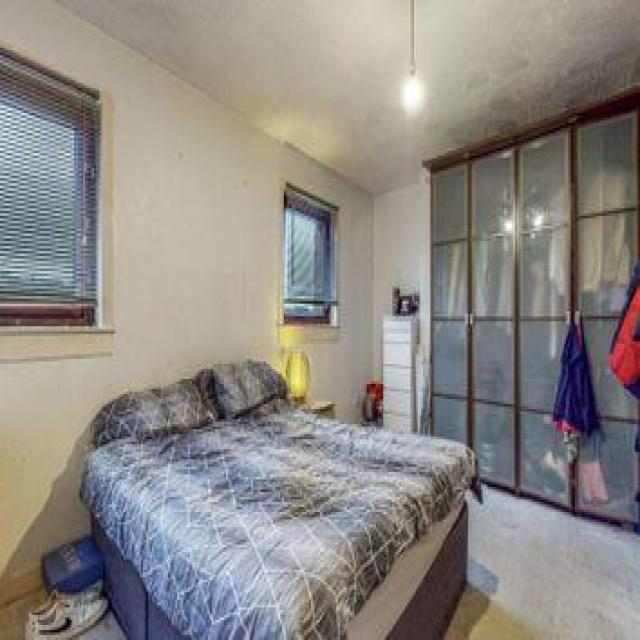Wall: (0, 0, 374, 601), (61, 0, 640, 193), (445, 486, 640, 639), (372, 167, 430, 377)
